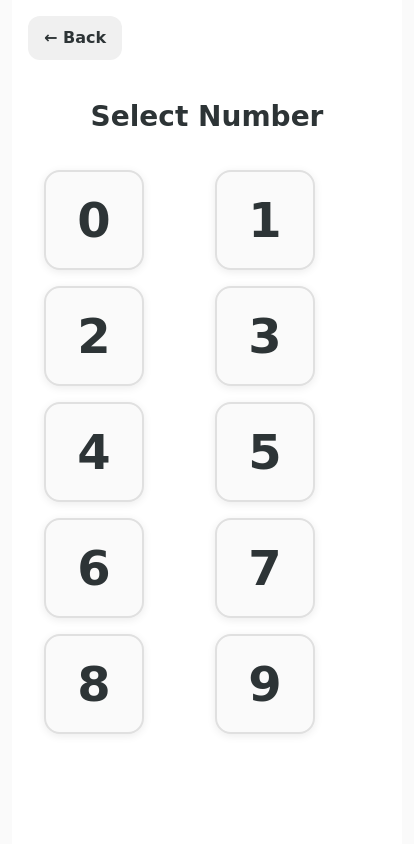
Clear/Reset Flow Integration › should render Clear button on tracing screen
Expected: the heading "Select Number" is shown, x1=91 y1=100 x2=324 y2=133
Click the button "0" at (94, 220), box x1=44 y1=170 x2=144 y2=270
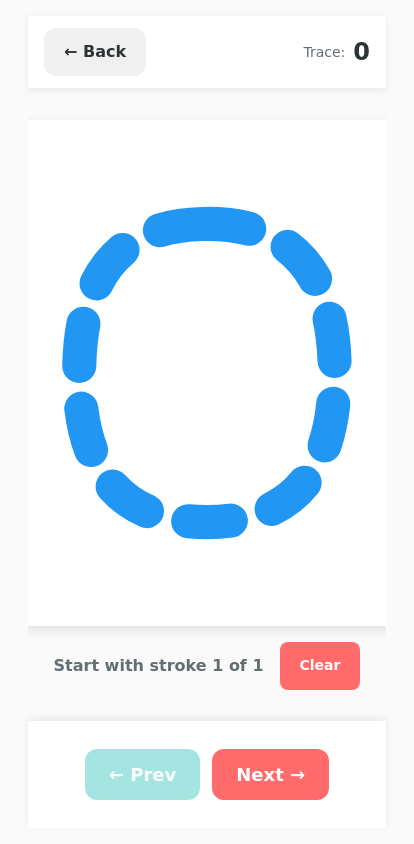
Expected: the text "Trace:" is shown, x1=303 y1=42 x2=345 y2=62
Expected: the button with aria-label "Clear drawing" is shown, x1=280 y1=642 x2=360 y2=690
